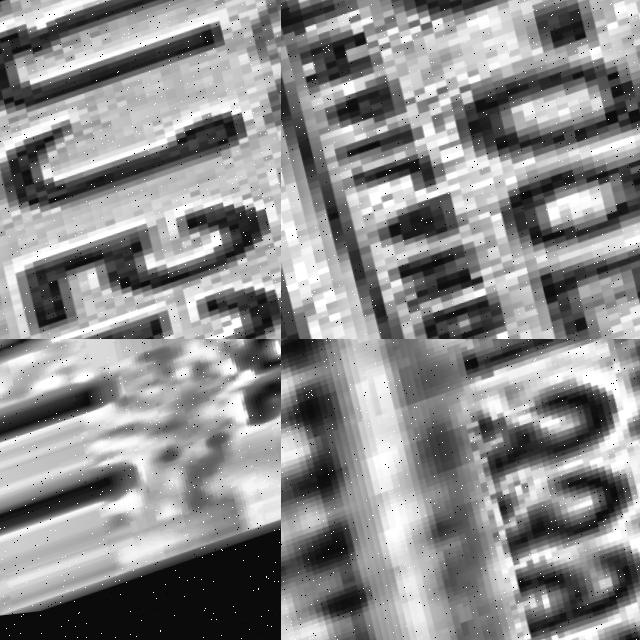license-plate: (281, 0, 640, 339), (296, 339, 640, 640), (0, 0, 281, 339), (0, 339, 281, 640)
